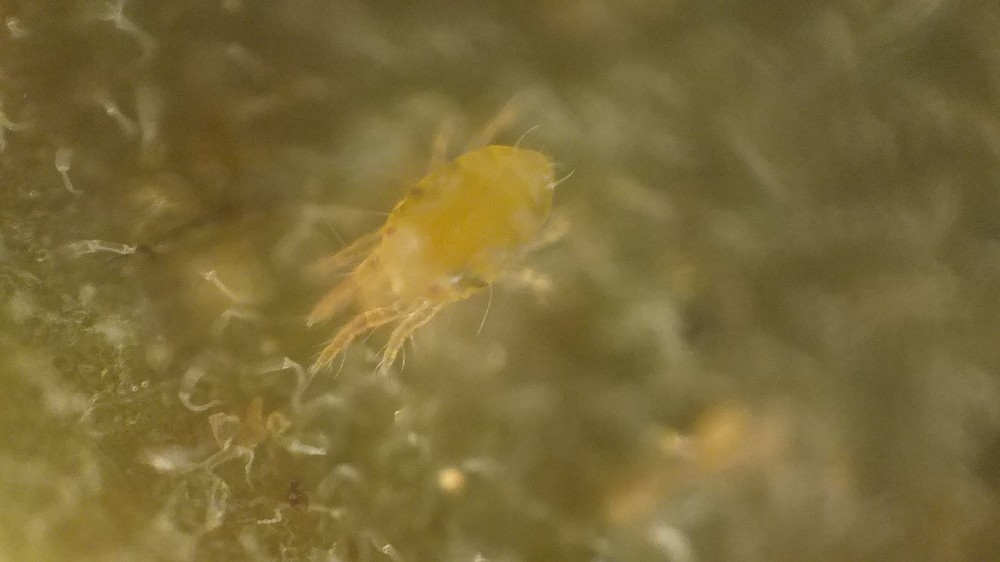Aracnido Rojo: (297, 84, 591, 396)
